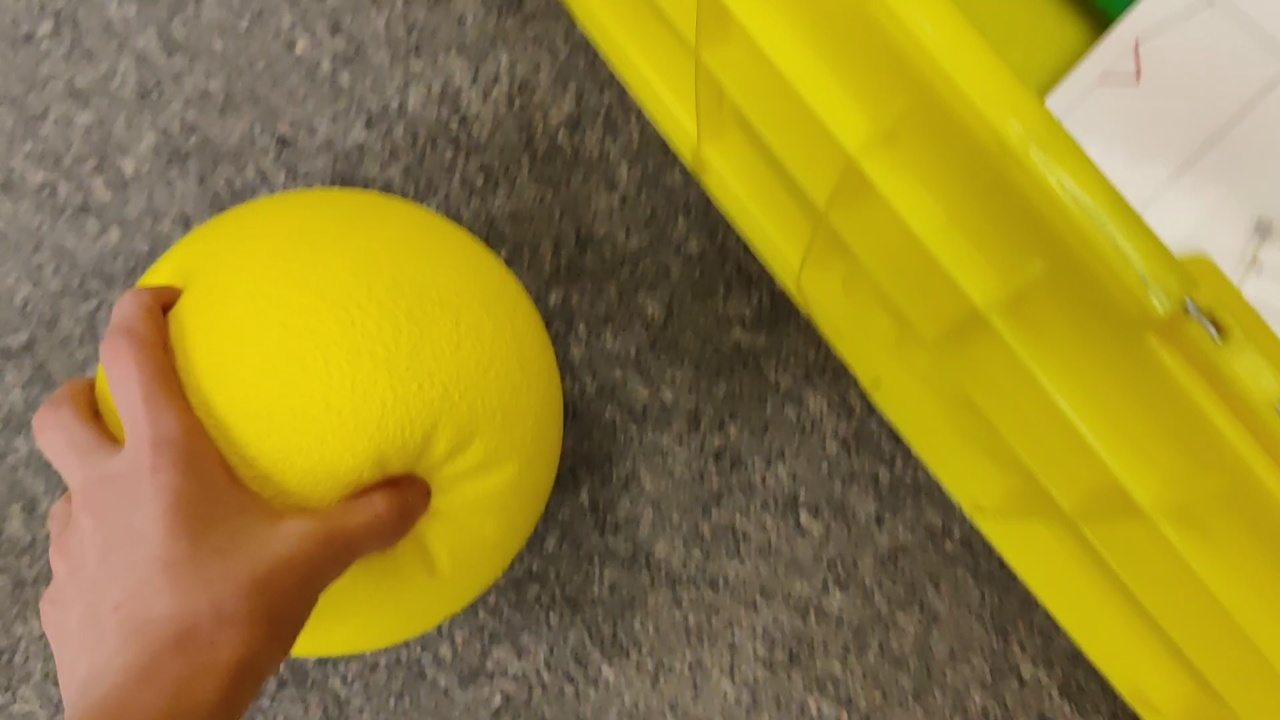Ball: (88, 187, 567, 654)
